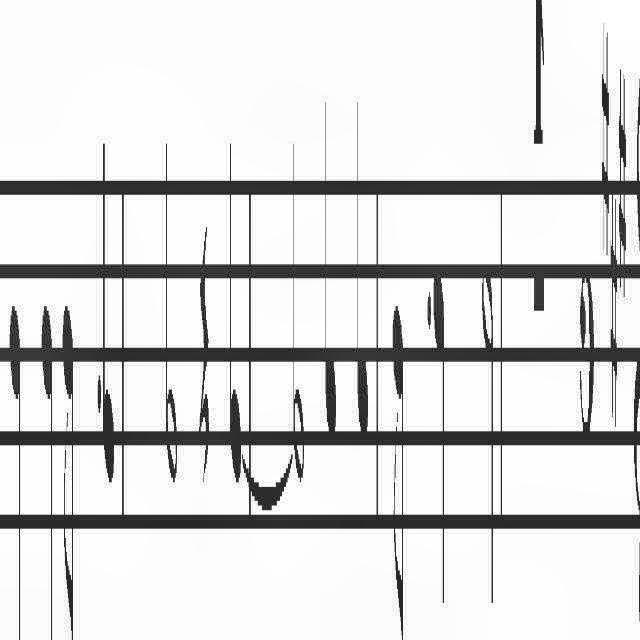Bass-clef: (632, 65, 640, 640)
Diez: (617, 54, 627, 304), (610, 188, 618, 440), (601, 22, 609, 254)
Eighth-note: (60, 272, 76, 640), (391, 283, 405, 640)
Half-note: (482, 243, 496, 621), (165, 131, 179, 499), (292, 121, 306, 489)
Quarter-note: (226, 121, 242, 489), (40, 292, 56, 640), (354, 101, 370, 442), (433, 260, 447, 622), (102, 138, 115, 492), (10, 278, 22, 640), (324, 86, 336, 447)
Quarter-rest: (198, 214, 210, 498)
